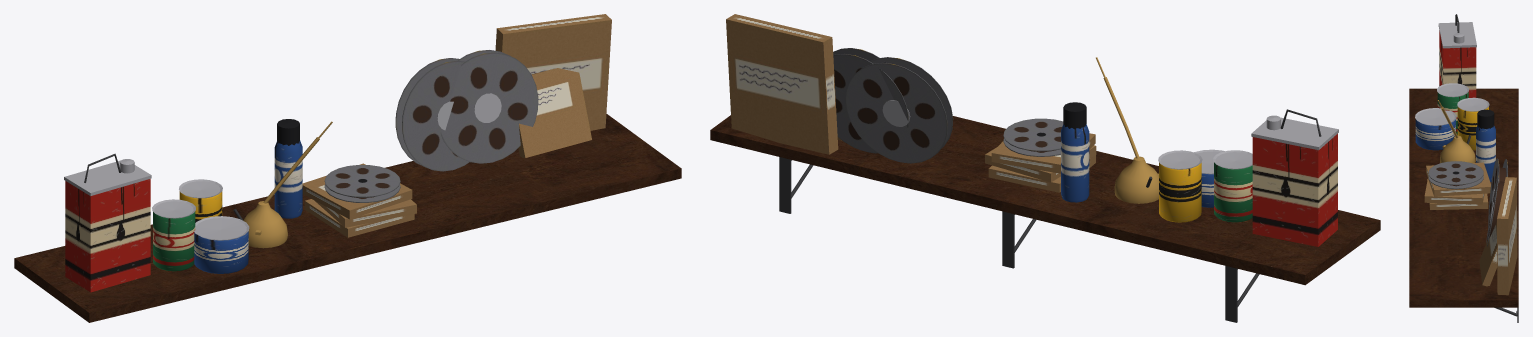
Rendered from oil-shelf.glb.
3 renders of one model, left to right at view 1: azimuth 30°, elevation 25°; view 2: azimuth 150°, elevation 25°; view 3: azimuth 270°, elevation 25°, orthographic. The views are drawn at different scales.
Parts seen in each view (by area): view 1: shelf_E06; view 2: shelf_E06; view 3: shelf_E06.
Boxes of the visible parts, bbox=[...] form: shelf_E06: bbox=[14, 14, 681, 322]; shelf_E06: bbox=[710, 14, 1380, 322]; shelf_E06: bbox=[1409, 14, 1518, 322].
Bounding box in the file's own units: 1.6 × 0.4767 × 0.35.
Materials: 2 (2 with a texture image).
